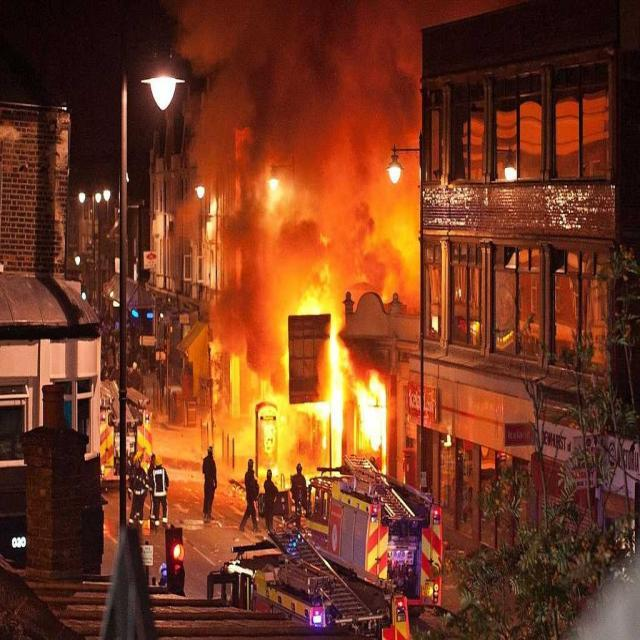Fire: (233, 178, 394, 462)
